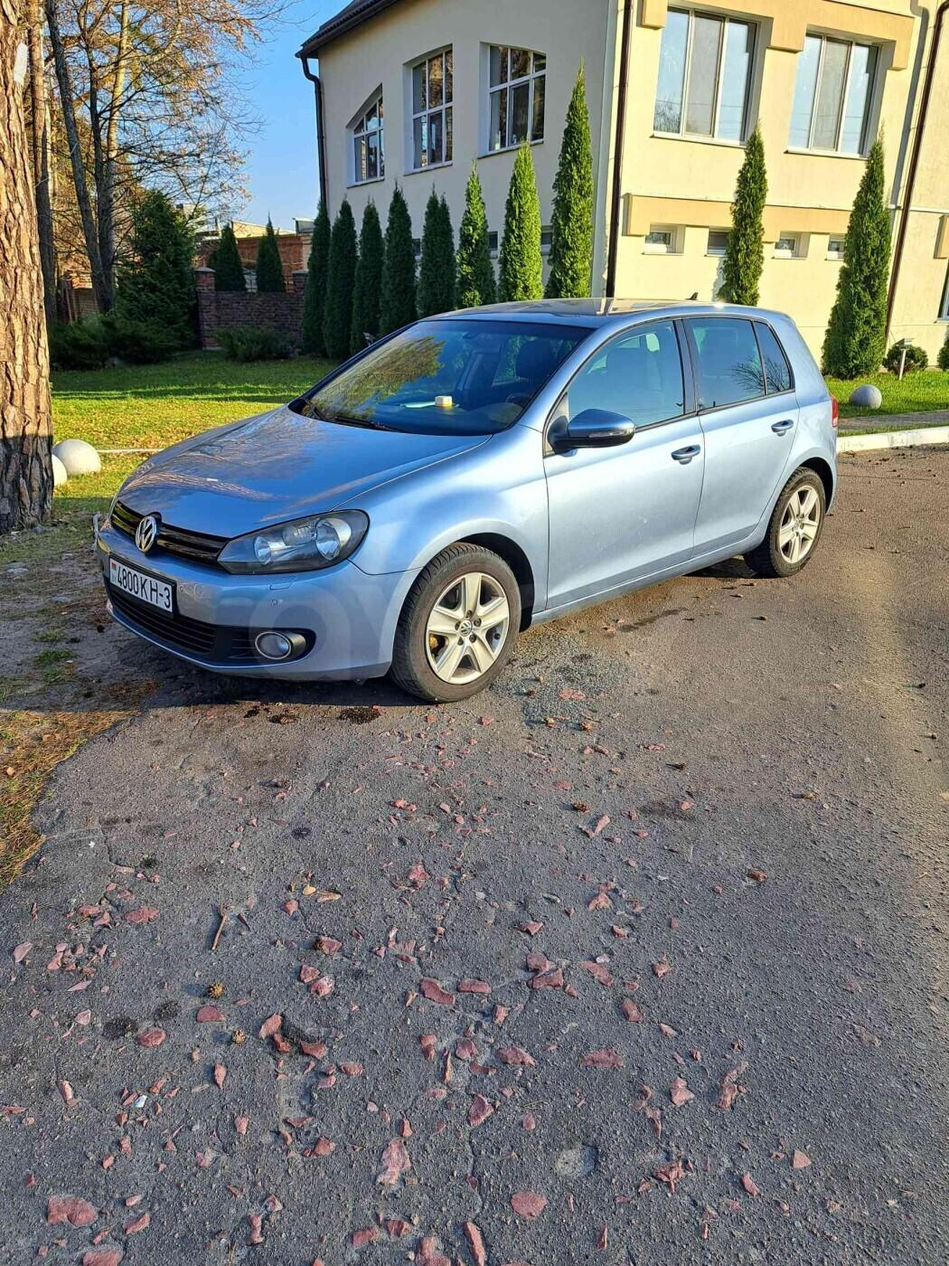Golf_2008-2013: (99, 288, 845, 714)
